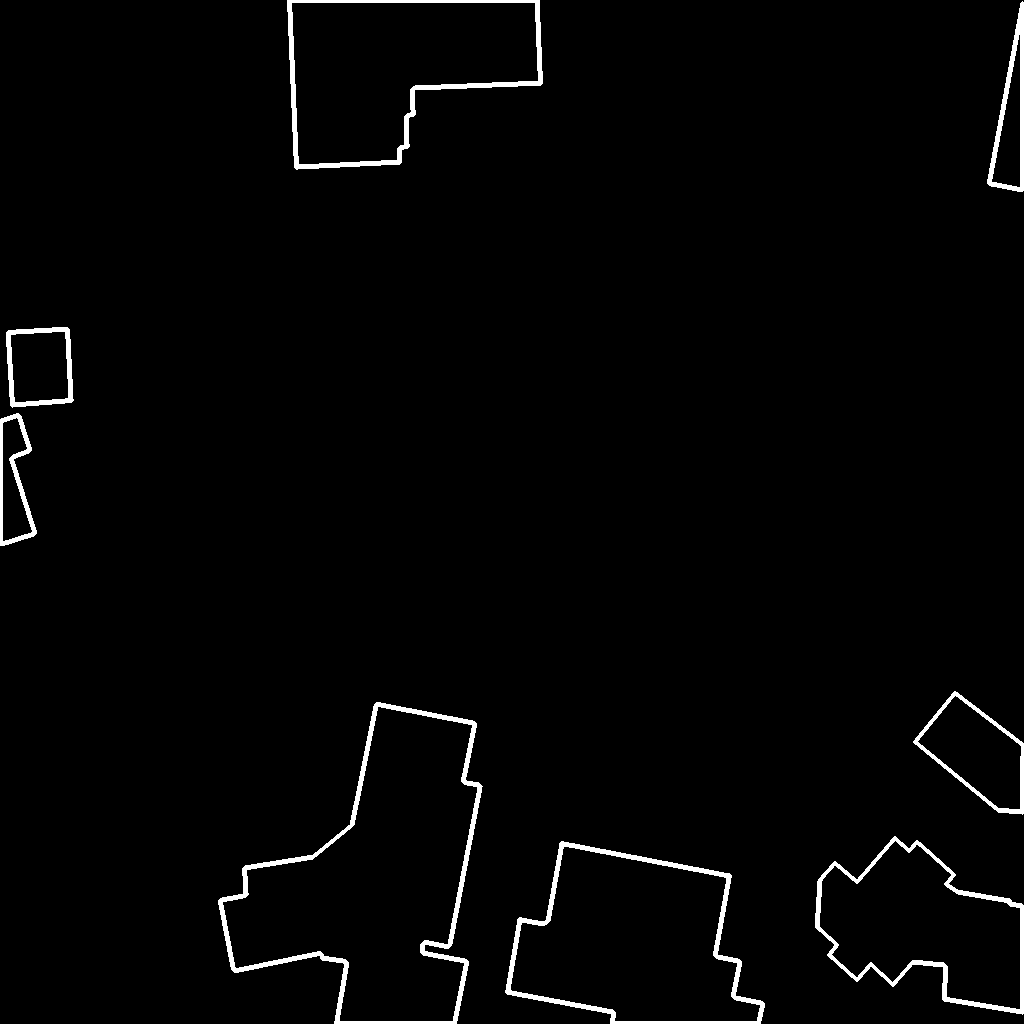building: (220, 704, 481, 1024), (507, 843, 764, 1024), (289, 0, 542, 168), (817, 838, 1024, 1013), (915, 693, 1024, 813), (989, 0, 1024, 191), (8, 329, 72, 406), (0, 415, 36, 545)
